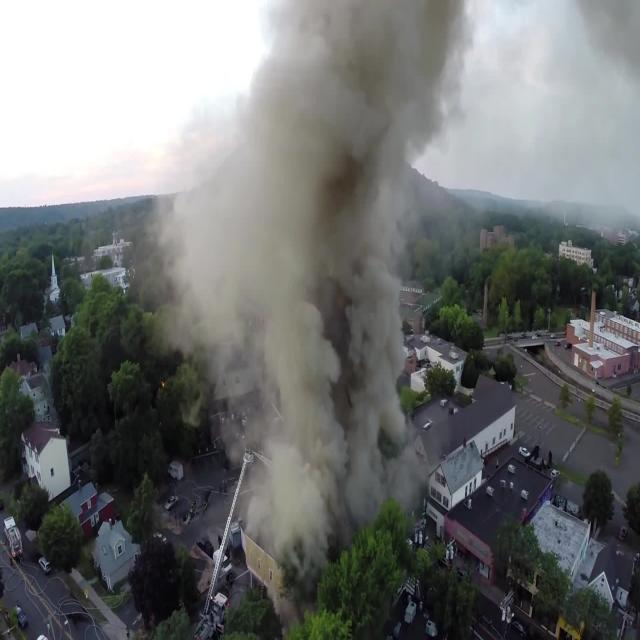Smoke: (172, 0, 473, 597)
